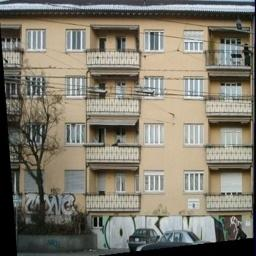building: (5, 2, 256, 256)
